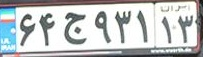character: (61, 9, 90, 47), (90, 8, 114, 47), (112, 6, 133, 47), (37, 11, 59, 48), (133, 5, 153, 45), (17, 10, 36, 48), (175, 12, 195, 45), (160, 14, 173, 45)
